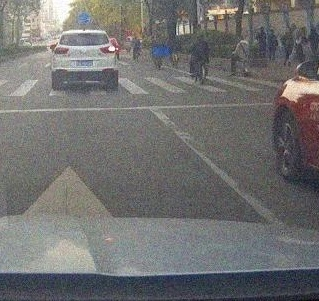L_light: (54, 48, 69, 54)
R_light: (100, 46, 117, 53)
T_light: (78, 34, 90, 36)
day-right: (52, 31, 118, 89)
